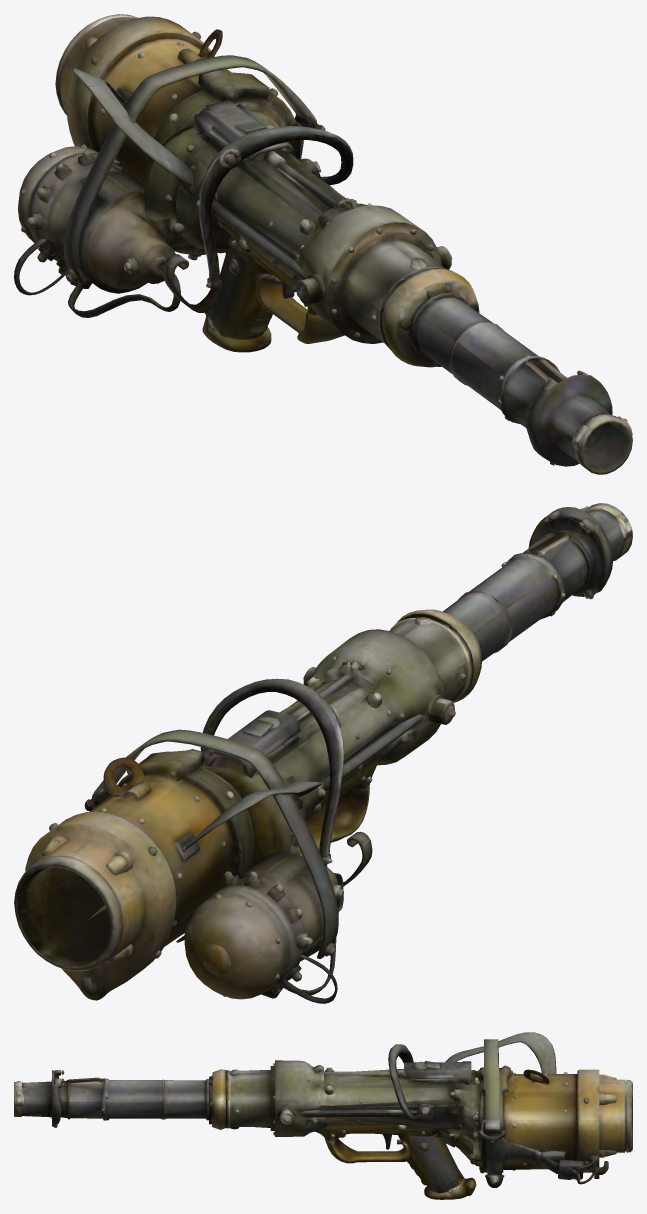
Rendered from inf_flamer.glb.
The picture shows the model from 3 angles, top to bottom: view 1: azimuth 30°, elevation 25°; view 2: azimuth 150°, elevation 25°; view 3: azimuth 270°, elevation 25°; orthographic projection. The views are drawn at different scales.
Visible parts, largest first — view 1: tripo_node_79a3b157-fc1d-44cf-bd08-172ef79f3167; view 2: tripo_node_79a3b157-fc1d-44cf-bd08-172ef79f3167; view 3: tripo_node_79a3b157-fc1d-44cf-bd08-172ef79f3167.
Part boxes in pixels (left/top/right/bottom): tripo_node_79a3b157-fc1d-44cf-bd08-172ef79f3167: left=14, top=14, right=632, bottom=474; tripo_node_79a3b157-fc1d-44cf-bd08-172ef79f3167: left=14, top=503, right=632, bottom=1003; tripo_node_79a3b157-fc1d-44cf-bd08-172ef79f3167: left=14, top=1032, right=632, bottom=1199.
Bounding box in the file's own units: 0.3062 × 0.2564 × 0.9995.
Materials: 1 (1 with a texture image).
